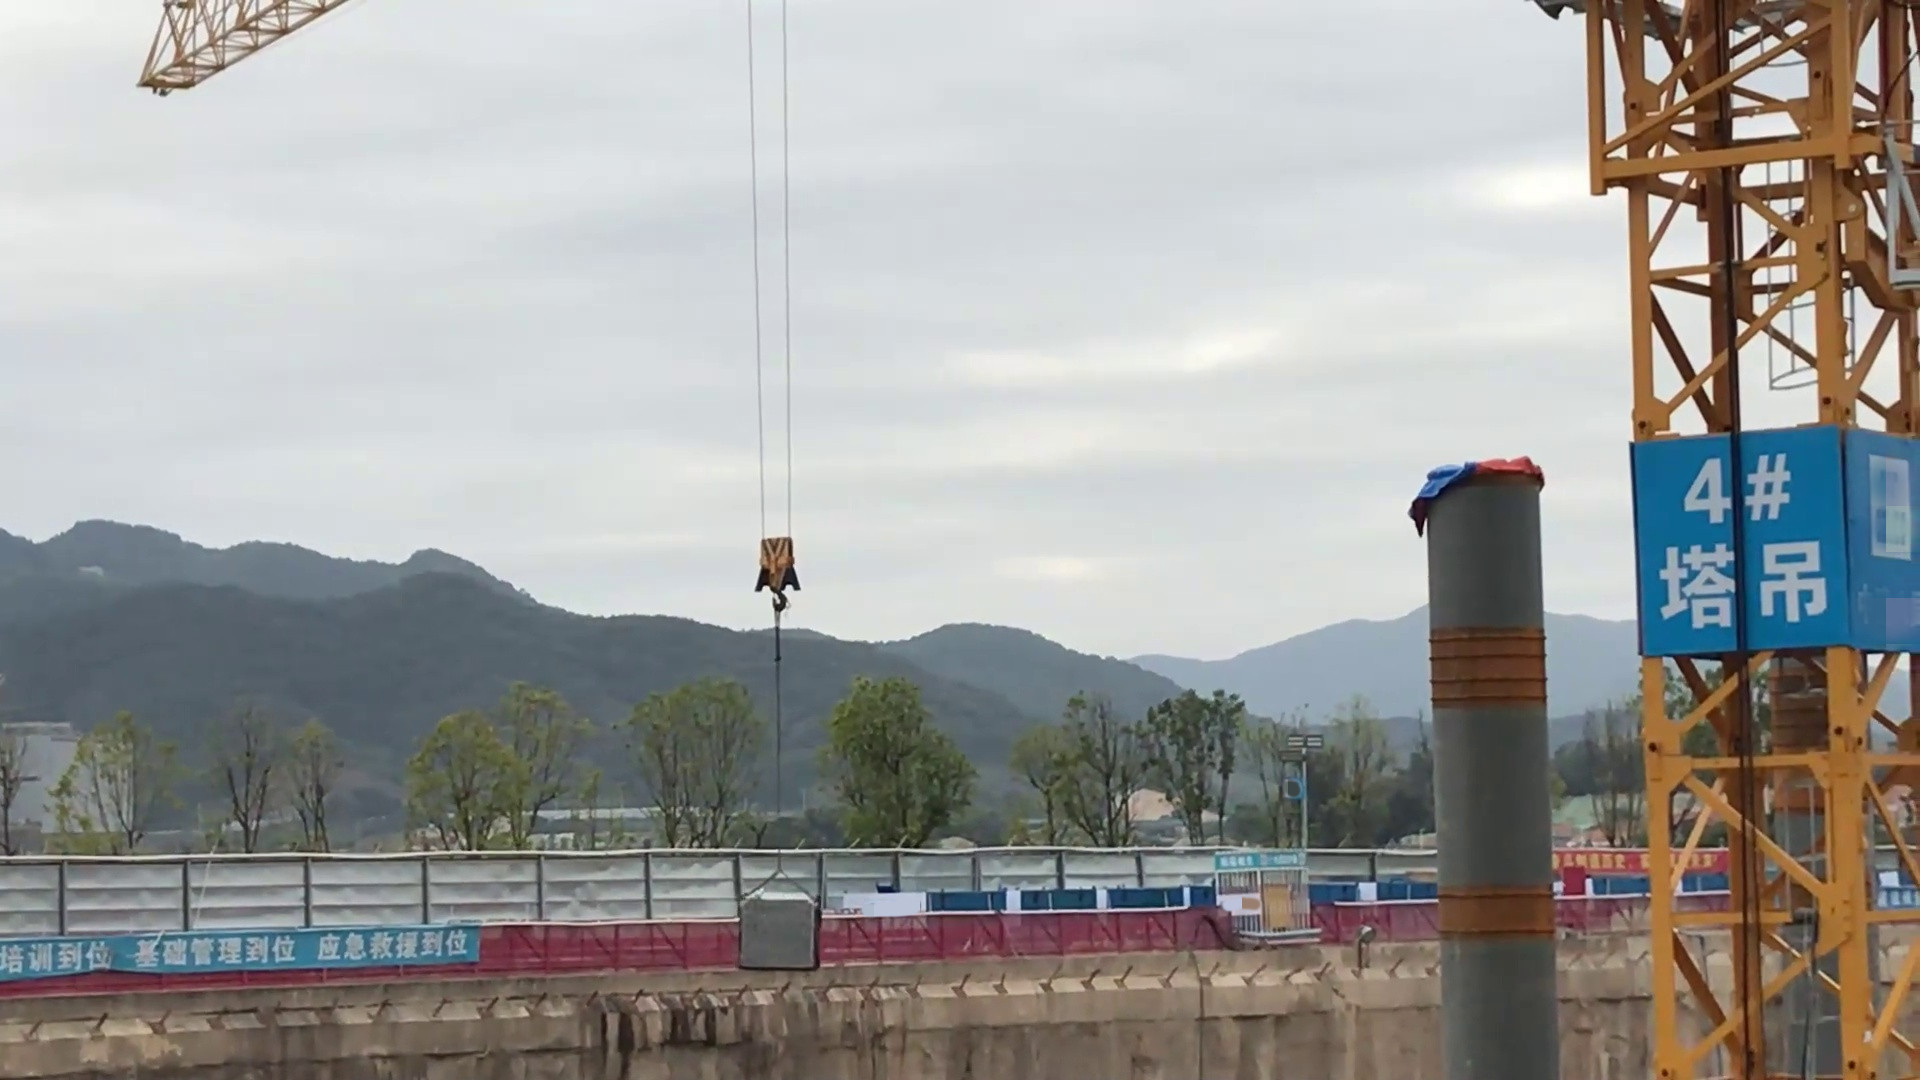fence: (5, 895, 1768, 997)
hook: (750, 531, 810, 622)
scaffold: (735, 885, 829, 967)
slogan: (11, 924, 484, 976), (1556, 851, 1737, 880), (1867, 880, 1920, 905)
